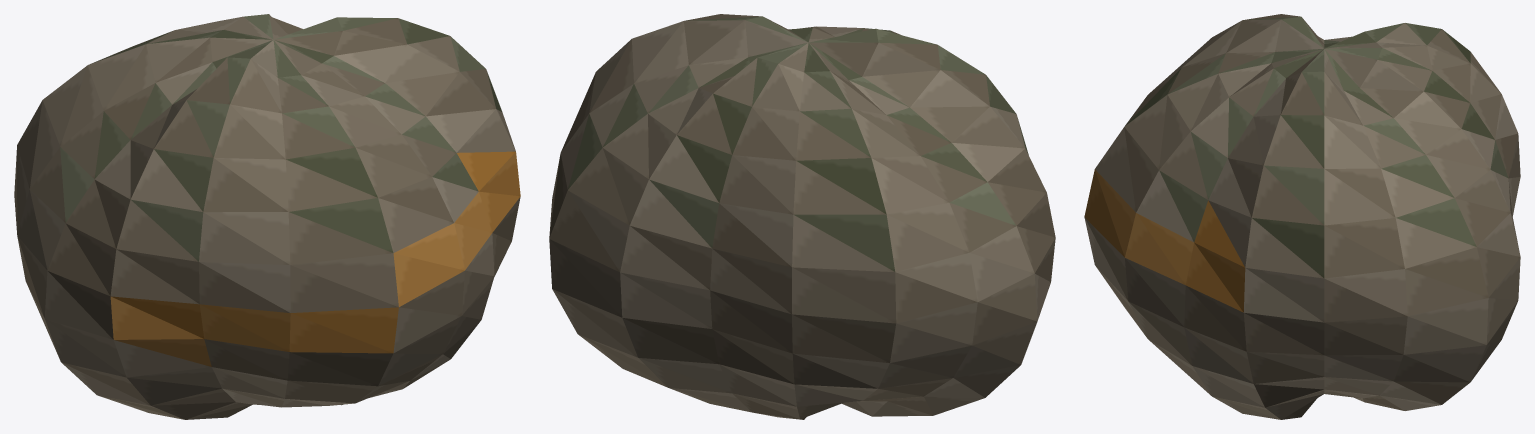
The model's file is earth-geode.glb.
3 renders of one model, left to right at view 1: azimuth 30°, elevation 25°; view 2: azimuth 150°, elevation 25°; view 3: azimuth 270°, elevation 25°, orthographic. The views are drawn at different scales.
Parts seen in each view (by area): view 1: geode; view 2: geode; view 3: geode.
Part boxes in pixels (x1=…): geode: x1=14, y1=14, x2=520, y2=419; geode: x1=549, y1=14, x2=1055, y2=419; geode: x1=1084, y1=14, x2=1520, y2=419.
Size of the model in its own units: 0.4251 by 0.3272 by 0.3666.
1 material, 1 textured.
